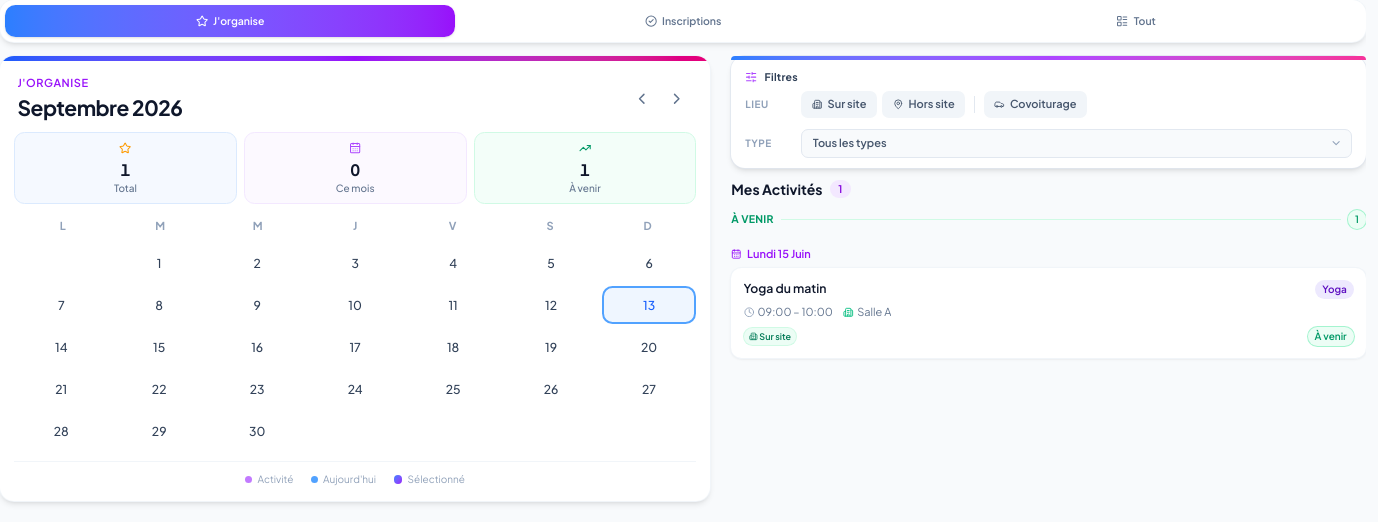
Test case: PlanningPage › sélectionne une date dans le calendrier
Expected: the heading "Yoga du matin" is shown, [744,280,826,297]
Click the button "15": (159, 347) [112,328,206,366]
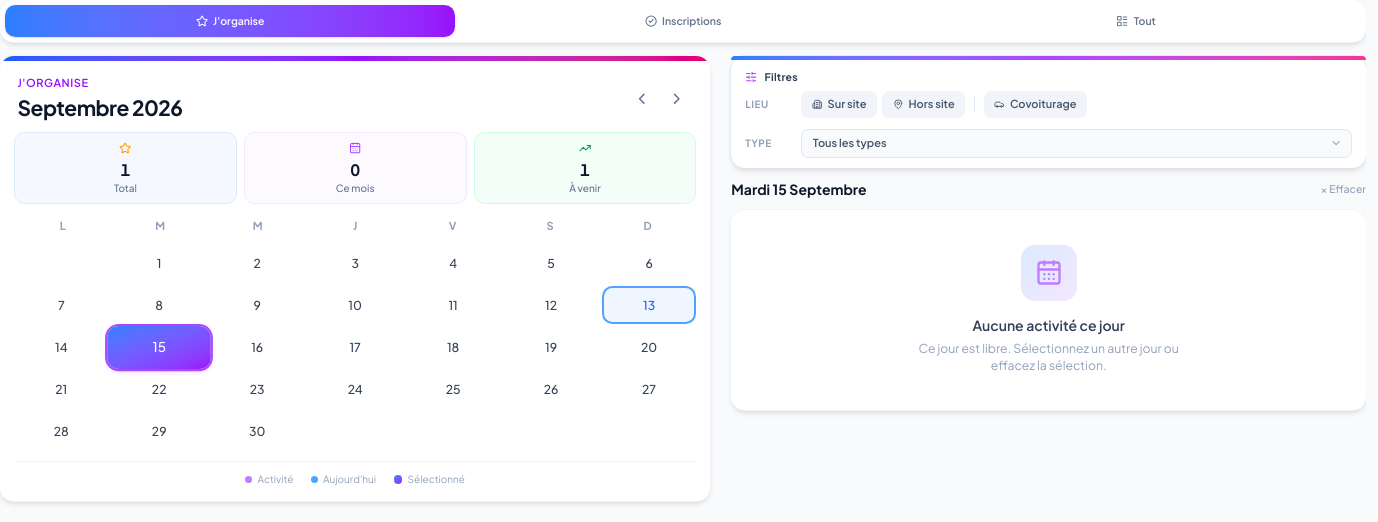
Now the button "× Effacer" is shown, box [1321,182,1366,196]
